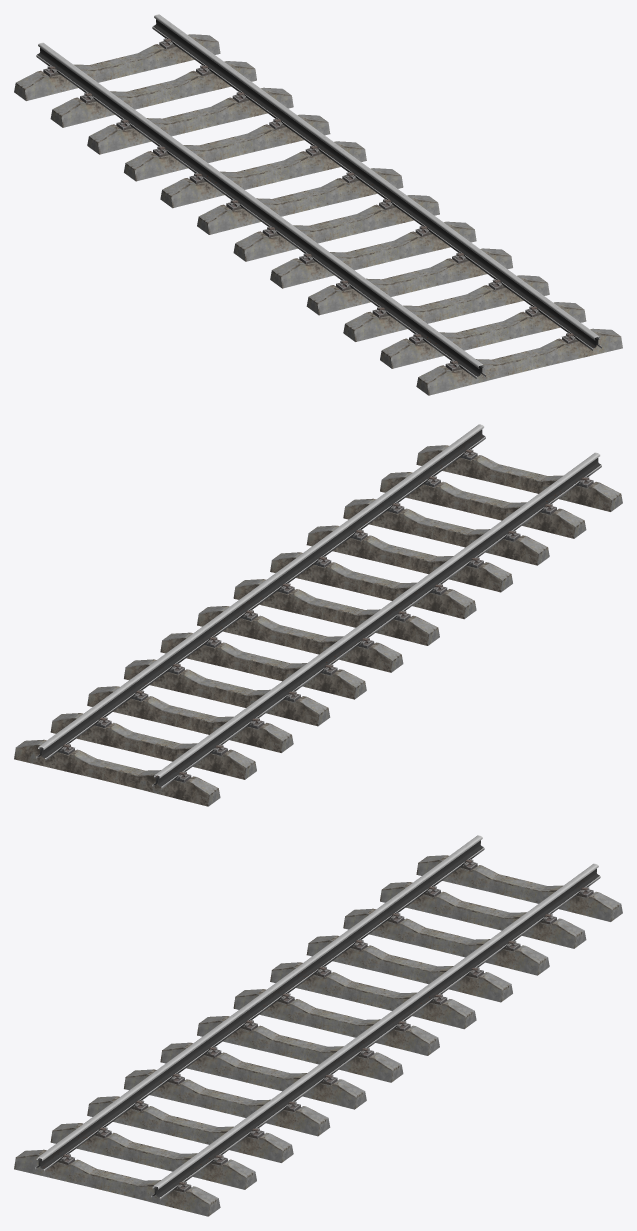
The model's file is tracks.gltf.
3 renders of one model, top to bottom at view 1: azimuth 30°, elevation 25°; view 2: azimuth 150°, elevation 25°; view 3: azimuth 330°, elevation 25°, orthographic.
Parts seen in each view (by area): view 1: railroad mesh; view 2: railroad mesh; view 3: railroad mesh.
Boxes of the visible parts, x1,y1,x2,y2 form: railroad mesh: [14, 14, 622, 395]; railroad mesh: [14, 424, 622, 806]; railroad mesh: [14, 835, 622, 1216].
Size of the model in its own units: 4.61 by 0.699 by 18.1.
Materials: 1 (1 with a texture image).
